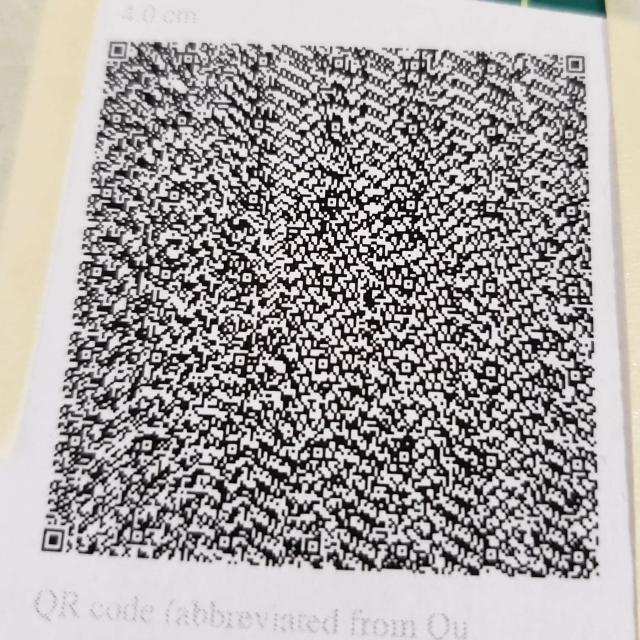qr-code: (30, 16, 621, 596)
